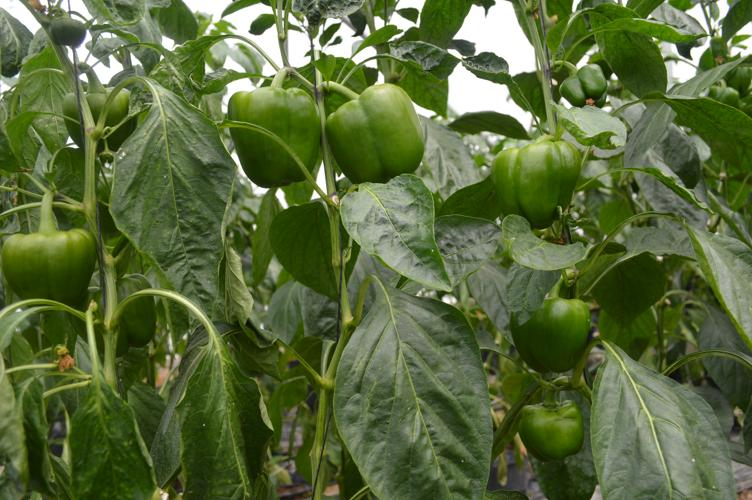BellPepper: (226, 88, 320, 188), (324, 85, 417, 184), (4, 228, 95, 308), (497, 140, 582, 225), (505, 299, 589, 375), (85, 270, 152, 353), (509, 398, 583, 462), (65, 89, 132, 154), (552, 66, 604, 106)
